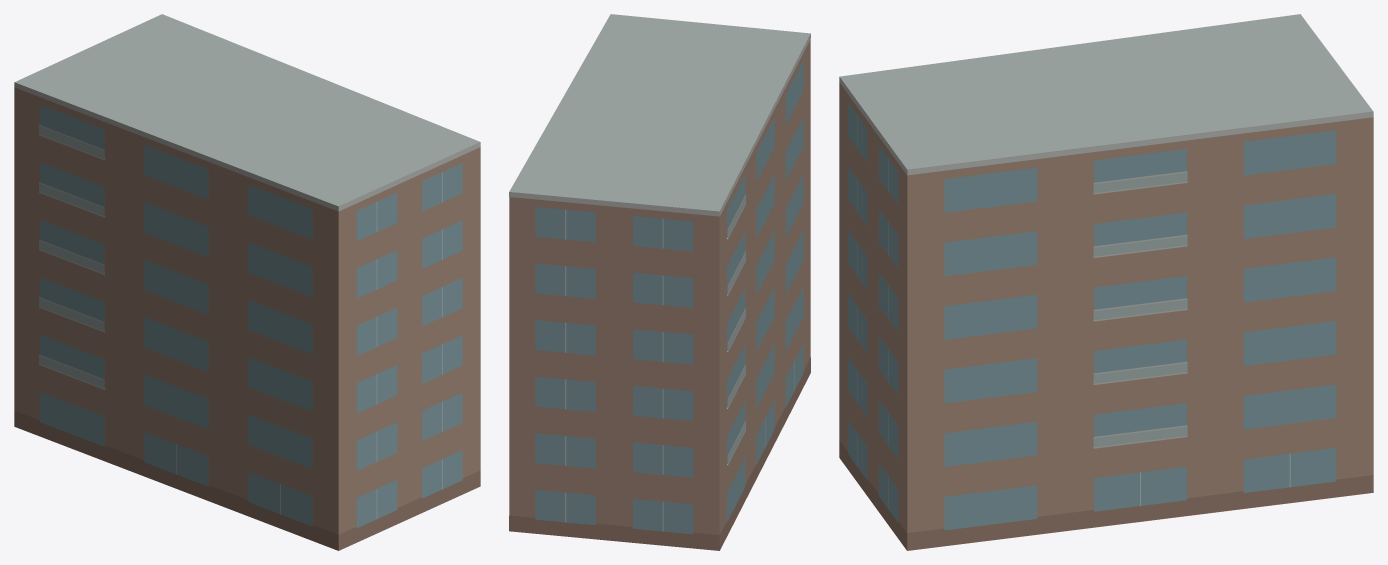
The model's file is survey-upis-32771515.glb.
3 views of the same model, side by side, from view 1: azimuth 30°, elevation 25°; view 2: azimuth 150°, elevation 25°; view 3: azimuth 270°, elevation 25° (orthographic). The views are drawn at different scales.
Visible parts, largest first — view 1: survey-upis-32771515.tmp; view 2: survey-upis-32771515.tmp; view 3: survey-upis-32771515.tmp.
Part boxes in pixels (x1=…): survey-upis-32771515.tmp: x1=14, y1=14, x2=480, y2=550; survey-upis-32771515.tmp: x1=509, y1=14, x2=810, y2=550; survey-upis-32771515.tmp: x1=839, y1=14, x2=1373, y2=550.
Size of the model in its own units: 14.33 by 16.35 by 20.77.
